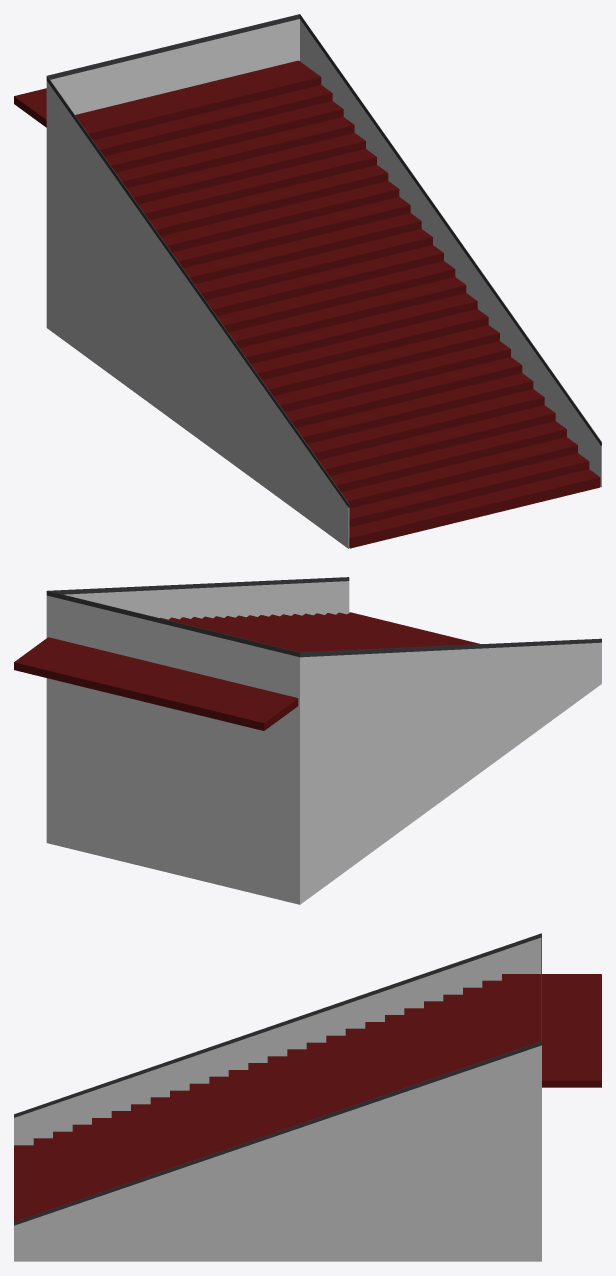
The model's file is Stairs.fbx.
3 renders of one model, top to bottom at view 1: azimuth 30°, elevation 25°; view 2: azimuth 150°, elevation 25°; view 3: azimuth 270°, elevation 25°, orthographic. The views are drawn at different scales.
Visible parts, largest first — view 1: Cube, Cube.001; view 2: Cube.001, Cube; view 3: Cube.001, Cube.
Part boxes in pixels (x1=…): Cube: x1=14, y1=60, x2=600, y2=548; Cube.001: x1=46, y1=14, x2=601, y2=548; Cube.001: x1=46, y1=577, x2=601, y2=904; Cube: x1=14, y1=612, x2=480, y2=730; Cube.001: x1=14, y1=933, x2=541, y2=1261; Cube: x1=14, y1=974, x2=601, y2=1221.
Bounding box in the file's own units: 1015 × 965 × 2332.
